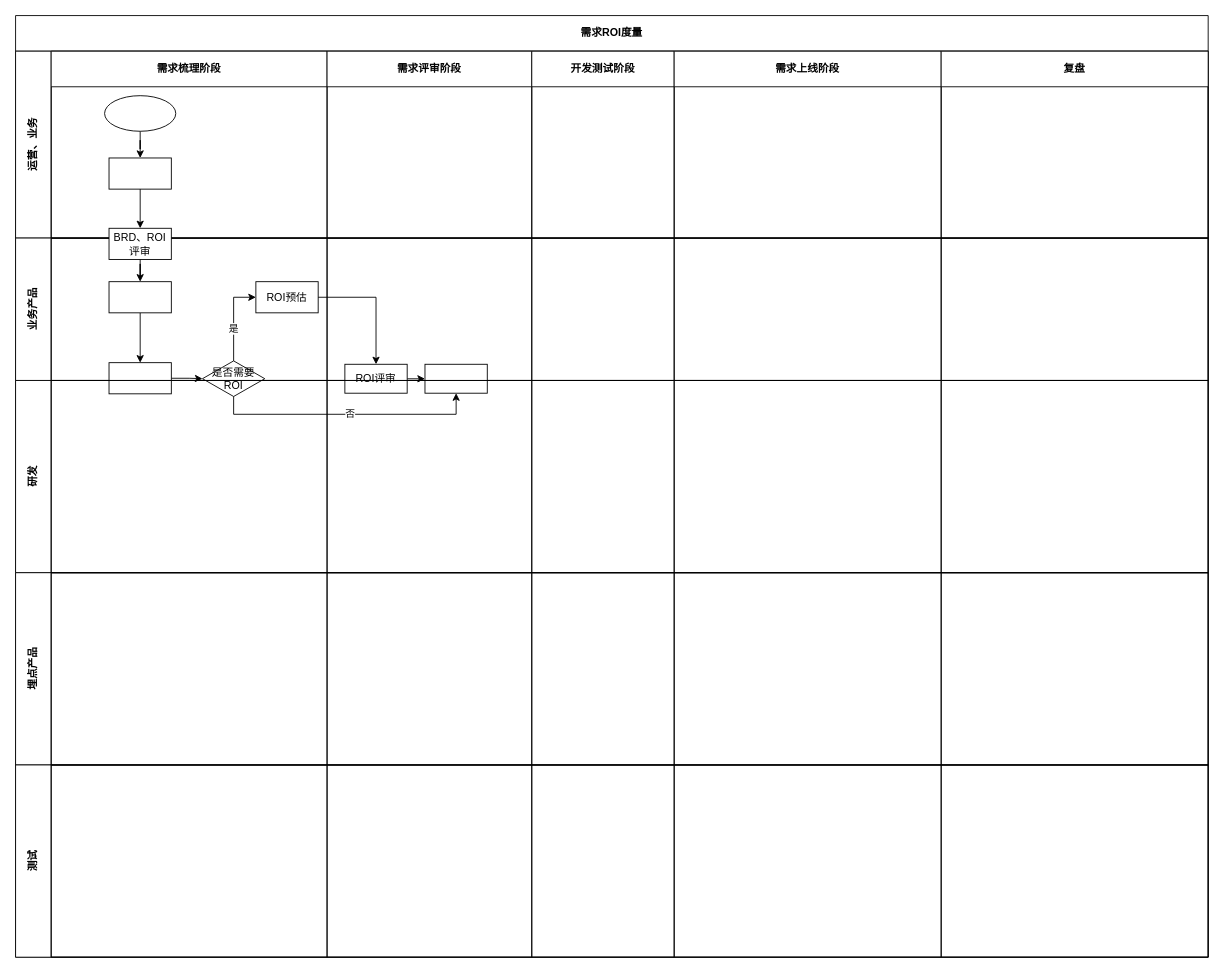
Some shapes in this 1224 by 973 pixel diagram are drawn without their labels. The centre of each missing label's shape, as x and y in pixels:
"PRD准备" belongs at point 139,297.
"PRD梳理" belongs at point 139,378.
"PRD评审" belongs at point 455,378.
"开始" belongs at point 140,113.
"需求提报" belongs at point 139,173.
